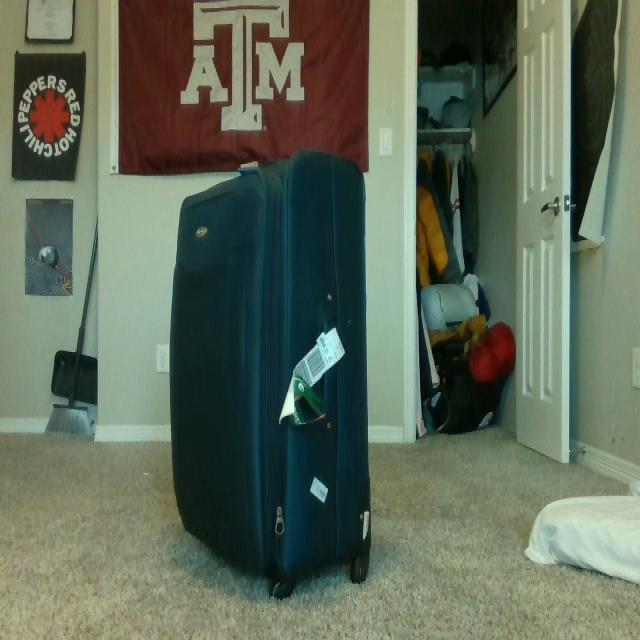suitcase: (168, 148, 374, 598)
